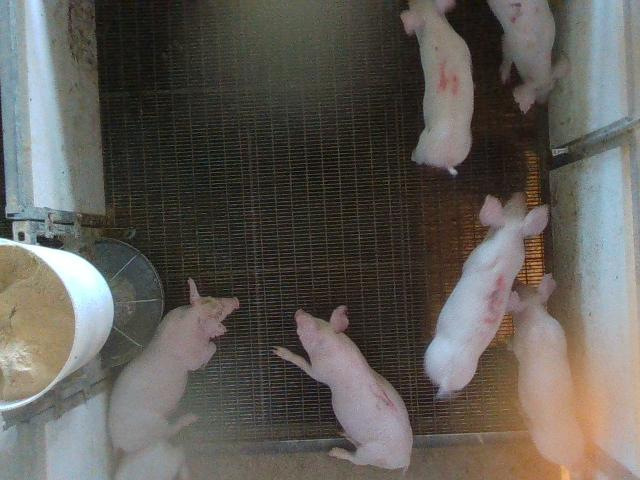pig-1: (274, 305, 412, 469)
pig-3: (425, 192, 549, 397)
pig-4: (401, 0, 472, 174)
